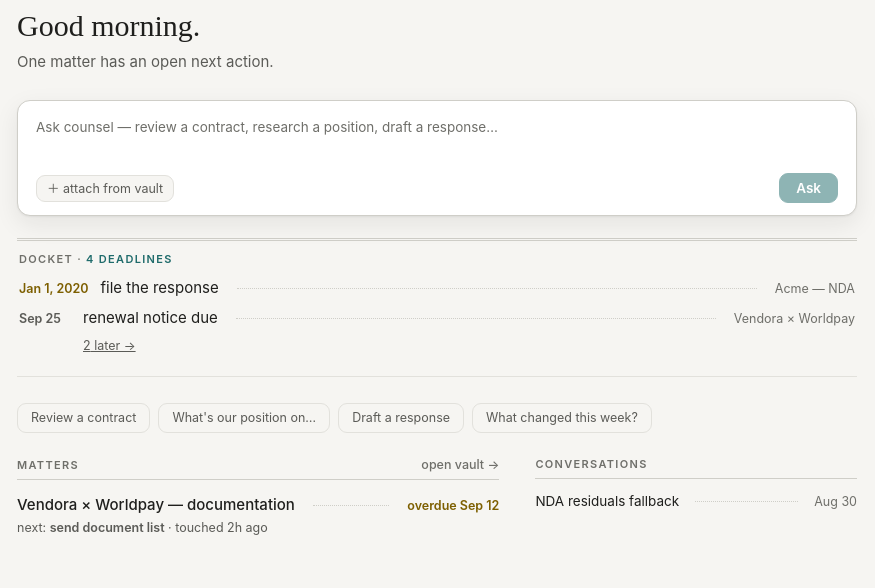
Test: HomePage, one docket: deadlines + proposals › deadlines by date, overdue hot, later folded behind one line that unfolds in place
The width and height of the screenshot is (875, 588).
Expected: the element named "Docket" is shown, [17,238,857,377]
Expected: the element showing "Docket · 4 deadlines" is shown, [19,252,173,266]
Click the button "2 later →" at [109, 346], box [83,336,136,356]
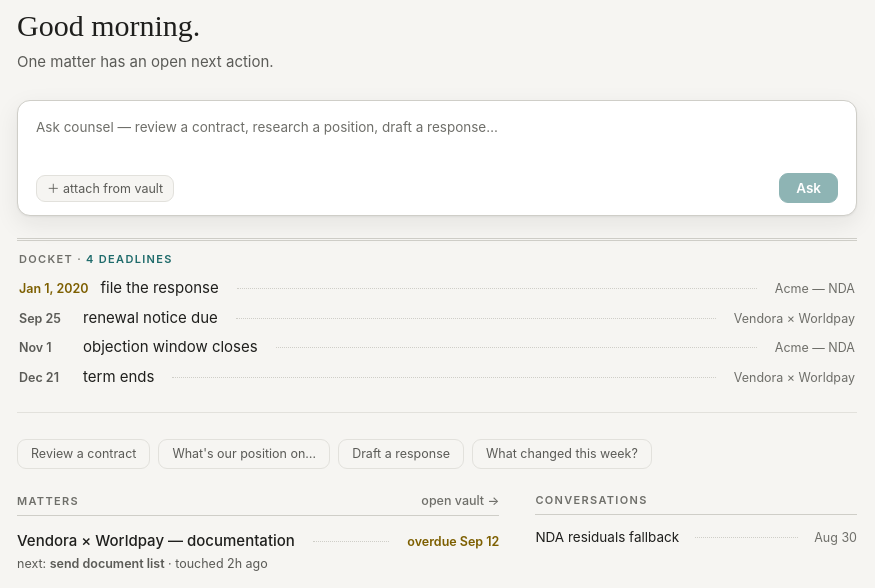
Result: the button "2 later →" is gone
Result: the text "term ends" is shown at [83,366,154,388]
